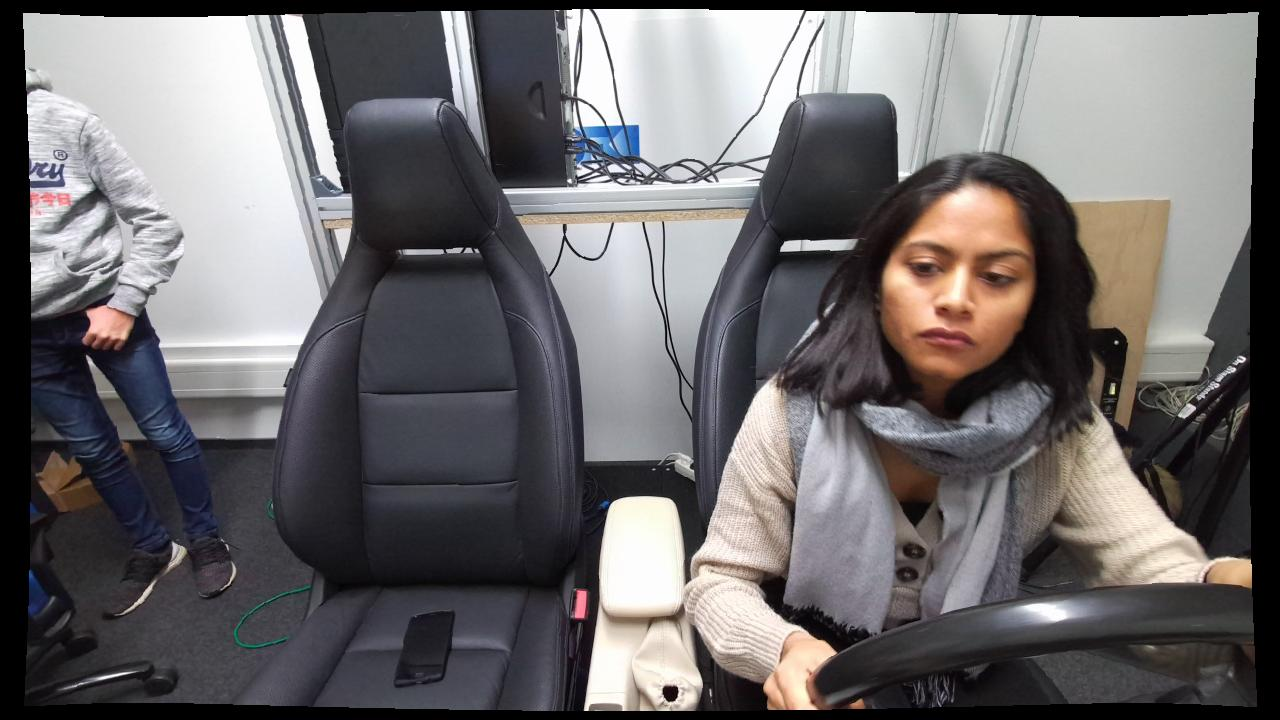Distracted: (677, 147, 1127, 703)
